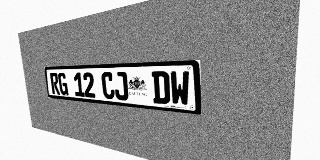1: (73, 72, 85, 97)
2: (83, 72, 95, 98)
C: (101, 72, 115, 100)
D: (152, 71, 170, 104)
G: (58, 73, 68, 95)
J: (113, 72, 129, 101)
R: (50, 73, 60, 95)
W: (170, 71, 190, 106)
